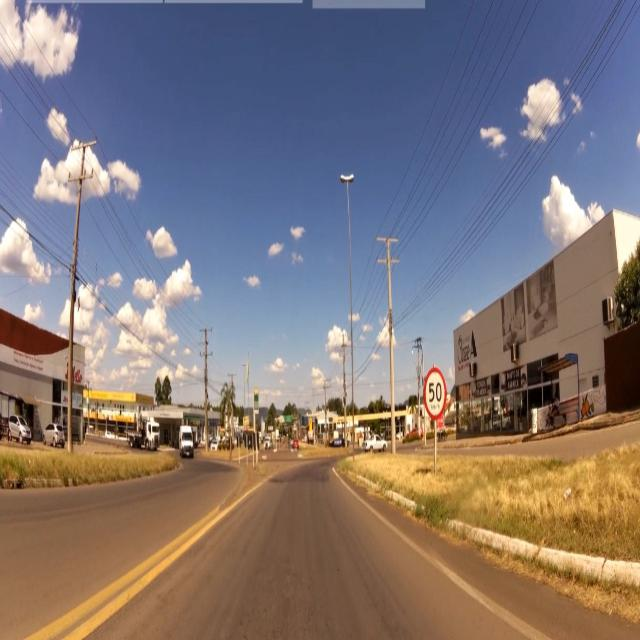R-19: (424, 368, 447, 419)
